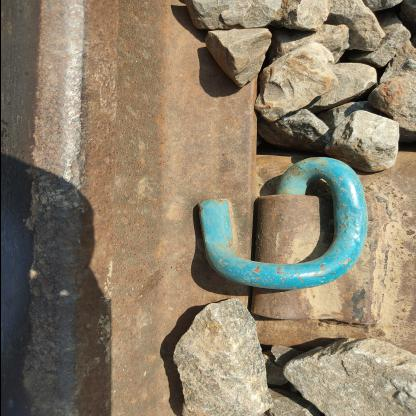Non Defective 1: (184, 144, 389, 342)
